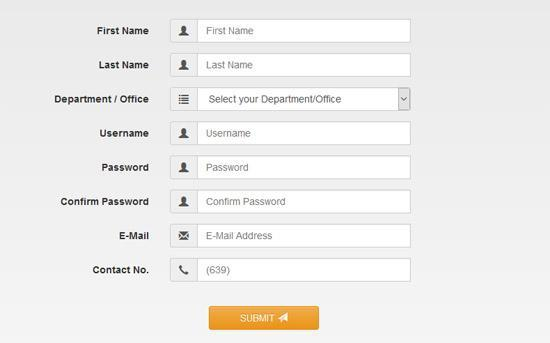button: (208, 305, 322, 332)
dropdown: (198, 87, 412, 112)
icon: (177, 159, 193, 177), (177, 25, 193, 42), (177, 93, 194, 109), (178, 262, 193, 279), (180, 194, 193, 212), (176, 231, 194, 244), (178, 128, 191, 144), (177, 58, 191, 72)
input: (197, 18, 413, 45), (197, 155, 413, 181), (198, 224, 413, 250), (198, 121, 412, 147), (197, 190, 413, 215), (197, 259, 413, 283), (198, 54, 412, 78)
label: (59, 195, 152, 207), (55, 96, 150, 107), (99, 126, 150, 141), (97, 60, 151, 74), (102, 160, 152, 175), (91, 265, 152, 277), (96, 26, 152, 38), (120, 232, 152, 240)
